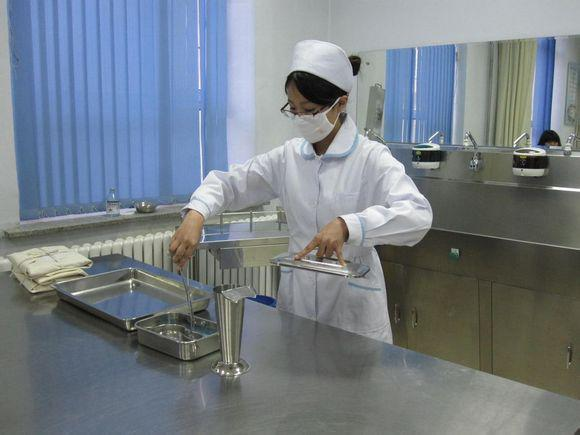OK: (289, 89, 344, 143)
